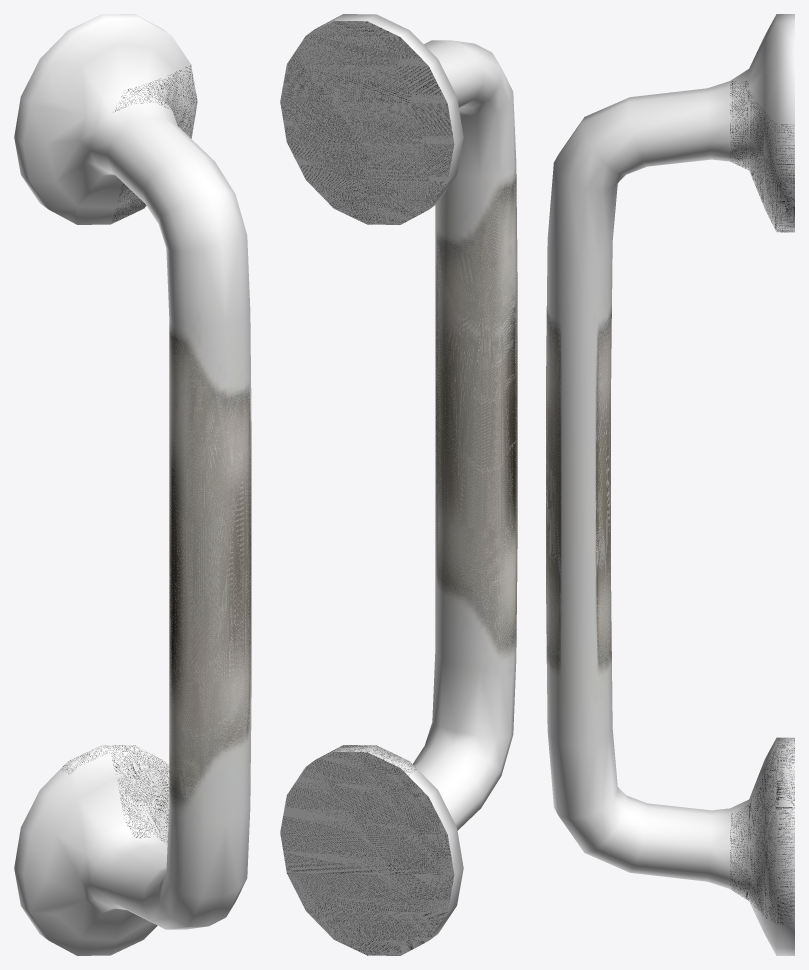
The model's file is original-58.obj.
The picture shows the model from 3 angles, left to right: view 1: azimuth 30°, elevation 25°; view 2: azimuth 150°, elevation 25°; view 3: azimuth 270°, elevation 25°; orthographic projection.
Parts seen in each view (by area): view 1: _7035_RT1/_7035_RT/mesh43/mesh43-geometry#mesh43-geometry; view 2: _7035_RT1/_7035_RT/mesh43/mesh43-geometry#mesh43-geometry; view 3: _7035_RT1/_7035_RT/mesh43/mesh43-geometry#mesh43-geometry.
Part boxes in pixels (box(x1,y1,x2,y2)): _7035_RT1/_7035_RT/mesh43/mesh43-geometry#mesh43-geometry: box(14, 14, 251, 955); _7035_RT1/_7035_RT/mesh43/mesh43-geometry#mesh43-geometry: box(280, 14, 517, 955); _7035_RT1/_7035_RT/mesh43/mesh43-geometry#mesh43-geometry: box(546, 14, 794, 955).
Bounding box in the file's own units: 0.0461 × 0.2362 × 0.0576.
